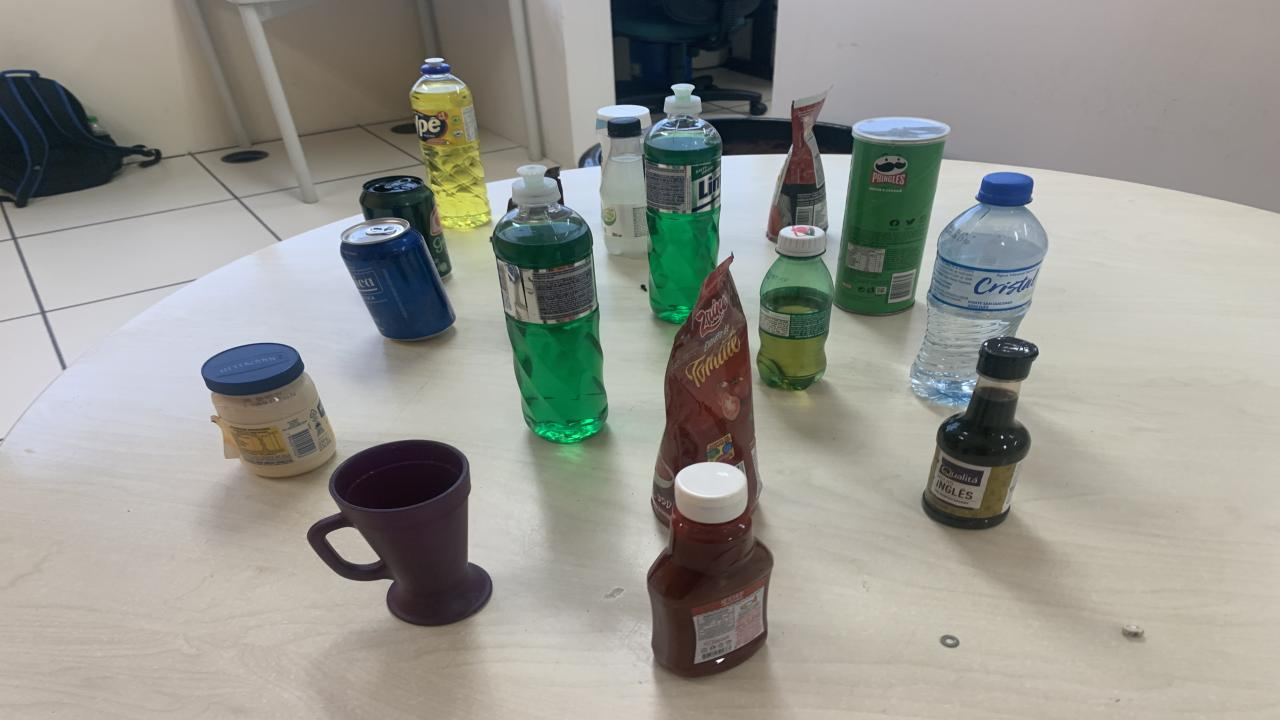Cleaner-Cleanup_Items: (595, 105, 650, 161)
Coffee-Pantry_Items: (545, 167, 565, 204), (508, 201, 515, 212)
Detergent-Cleanup_Items: (490, 165, 608, 442), (645, 84, 722, 324), (410, 58, 492, 229)
English_Sauce-Pantry_Items: (922, 338, 1038, 529)
Guarana-Drinks: (758, 225, 832, 390)
Guarana_Can-Drinks: (360, 174, 450, 278)
Ketchup-Pantry_Items: (648, 461, 772, 677)
Mayonnaise-Pantry_Items: (202, 343, 335, 478)
Pringles-Snacks: (835, 116, 950, 315)
Soda-Drinks: (600, 116, 650, 259)
Tomato_Sauce-Pantry_Items: (652, 257, 762, 525), (768, 92, 828, 240)
Tonic-Drinks: (340, 218, 455, 339)
Water_Bottle-Drinks: (910, 172, 1048, 405)
